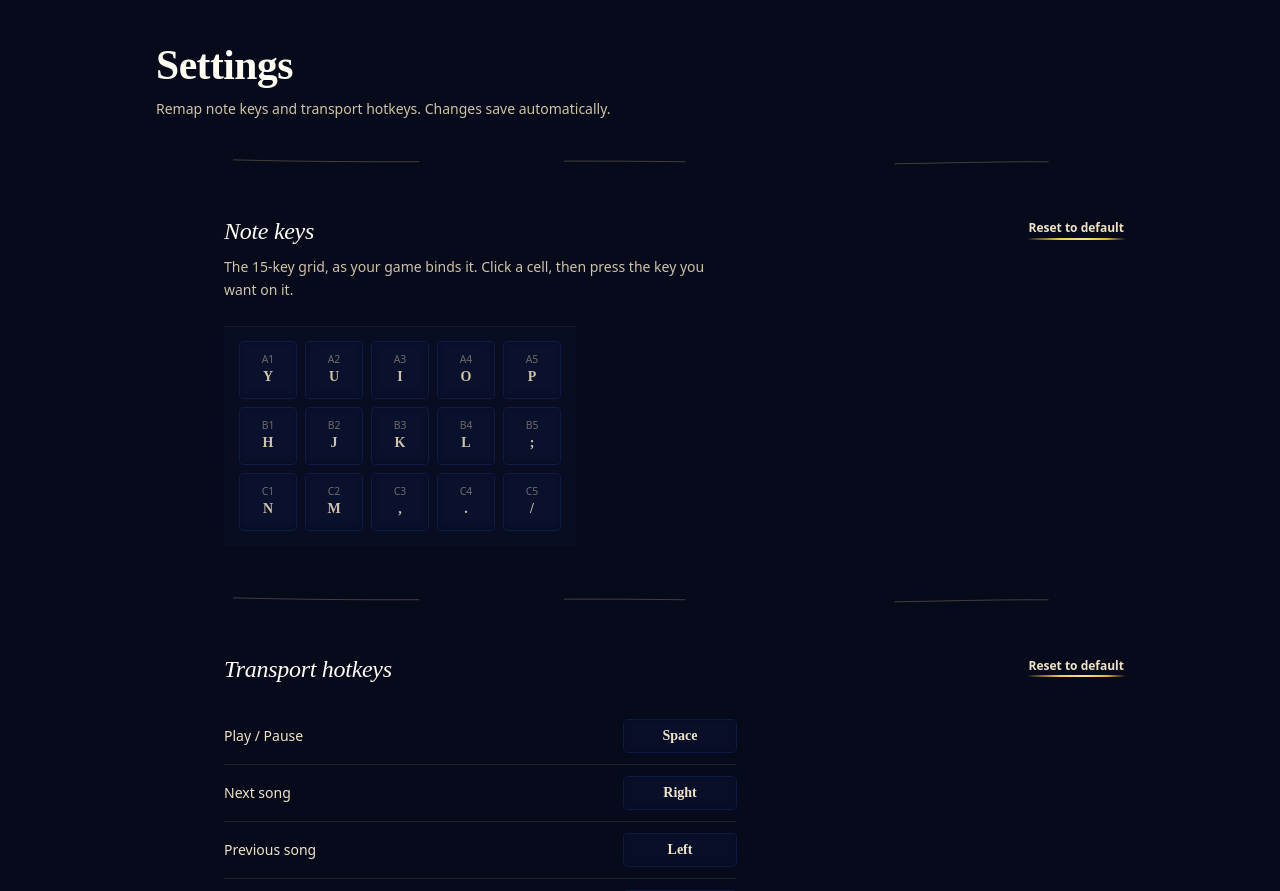
Test: Settings › captures a new key when a cell is clicked and a key is pressed
Click the button named "Note key A1".
click(268, 370)  # box [240,342,296,398]
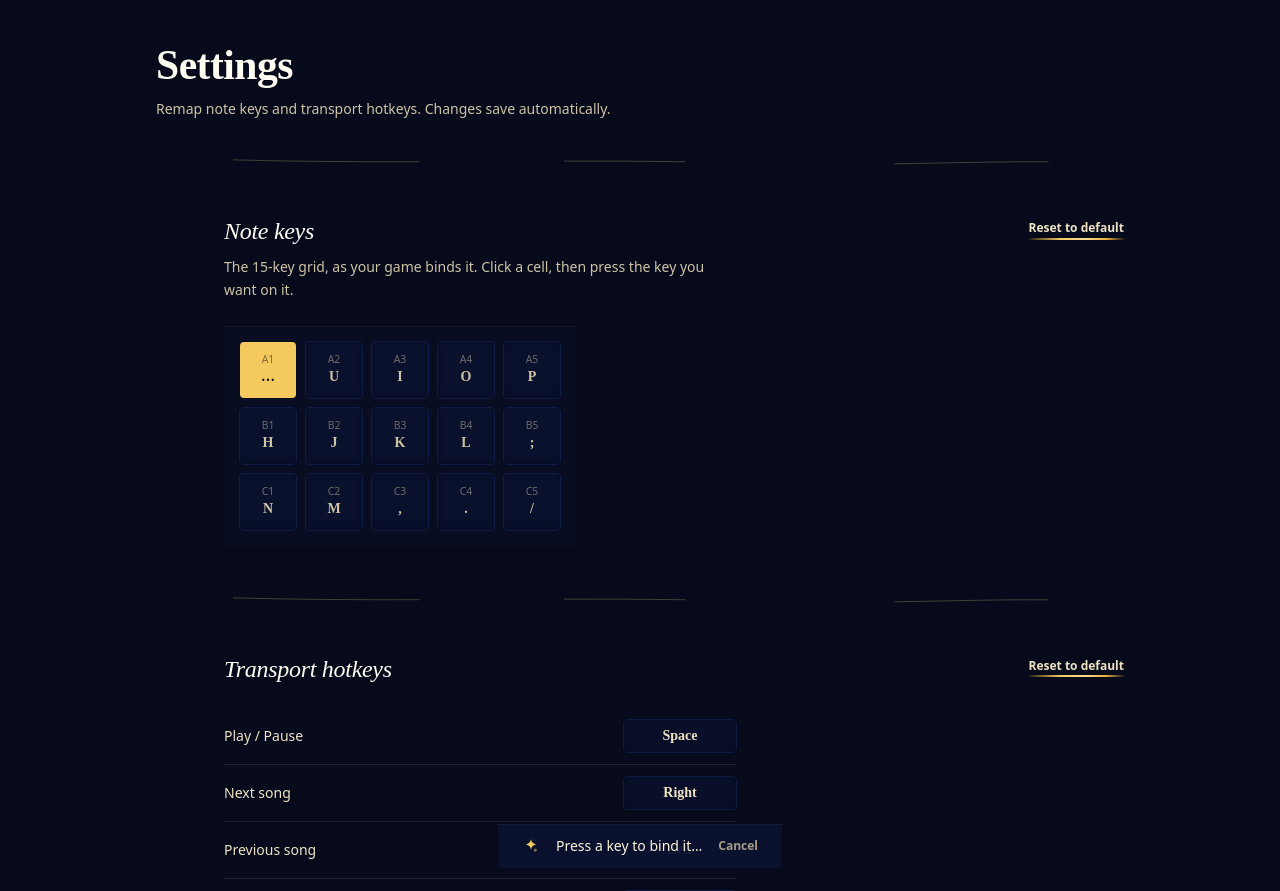
Press q
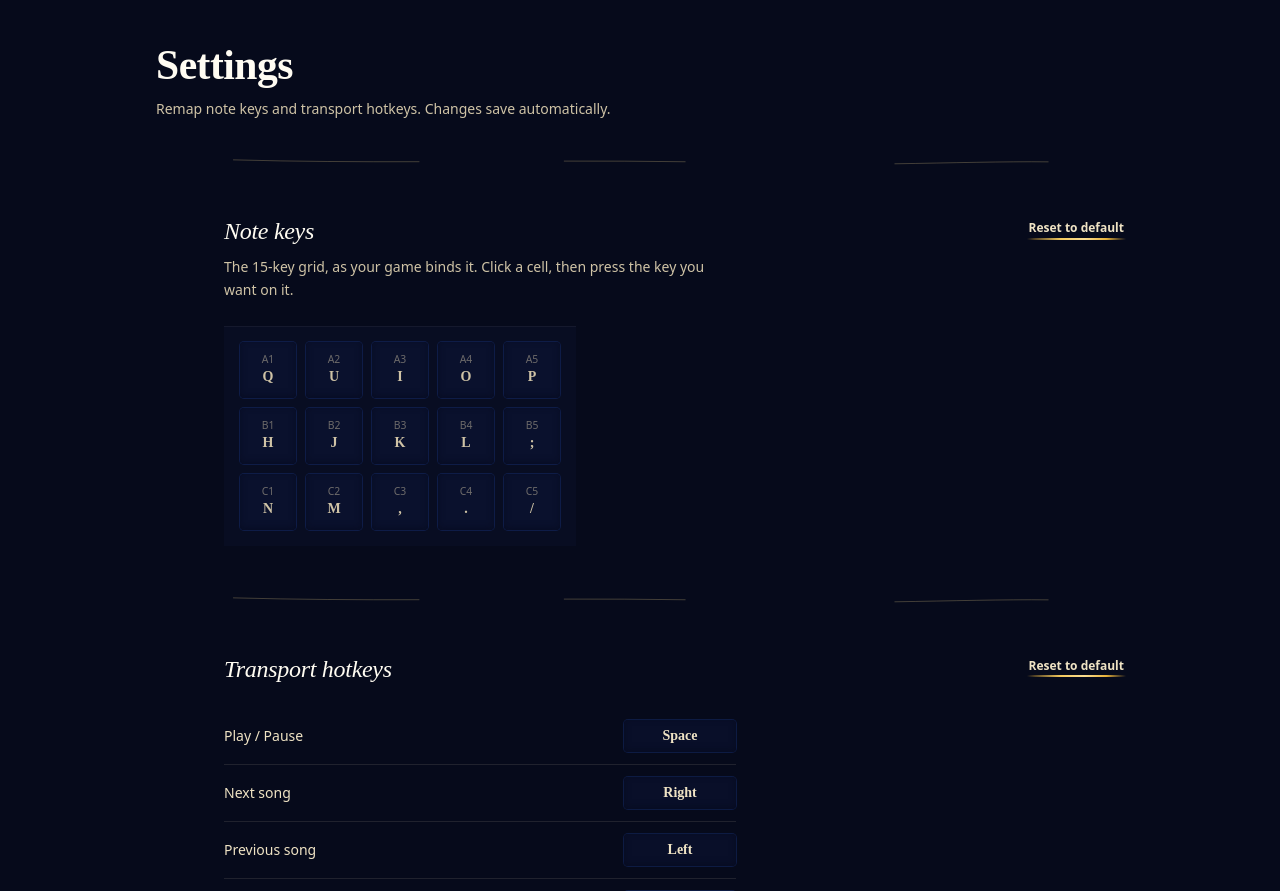
Check: the button named "Note key A1" shows "Q", box [240,342,296,398]
